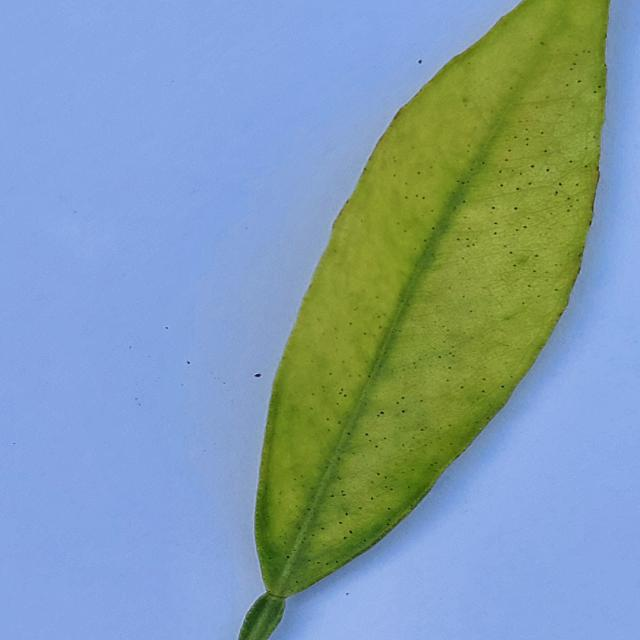greening: (256, 0, 608, 598)
